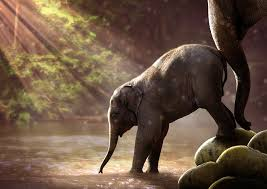elephant: (96, 45, 237, 178), (207, 1, 266, 127)
